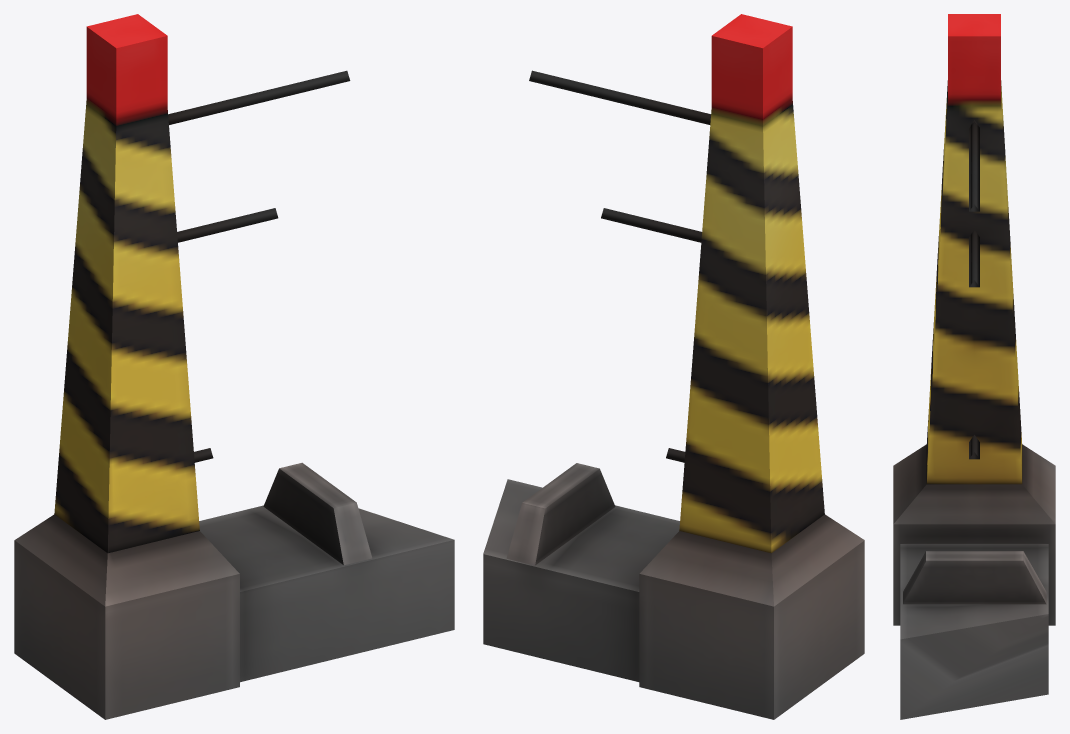
File: B1Broke01.FBX
The picture shows the model from 3 angles, left to right: view 1: azimuth 30°, elevation 25°; view 2: azimuth 150°, elevation 25°; view 3: azimuth 270°, elevation 25°; orthographic projection. The views are drawn at different scales.
Visible parts, largest first — view 1: B1Broke01; view 2: B1Broke01; view 3: B1Broke01.
Boxes of the visible parts, <box> form: B1Broke01: <box>14,14,454,719</box>; B1Broke01: <box>483,14,864,719</box>; B1Broke01: <box>893,14,1055,719</box>.
Size of the model in its own units: 42.22 by 73.01 by 18.79.
